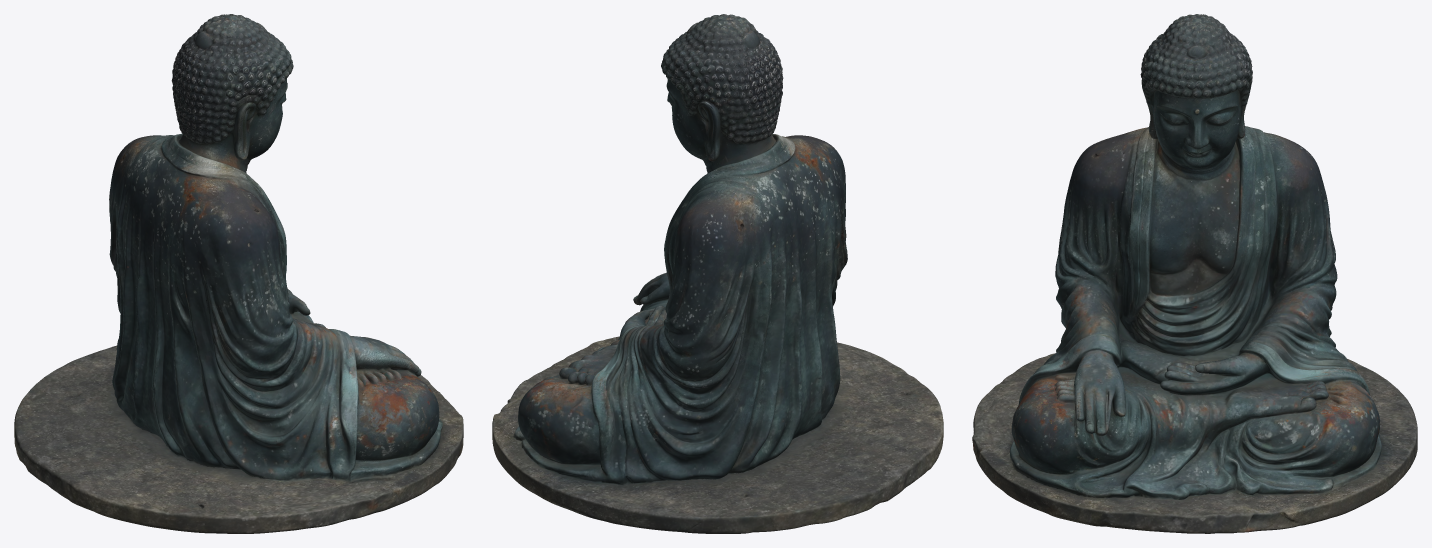
The picture shows the model from 3 angles, left to right: view 1: azimuth 30°, elevation 25°; view 2: azimuth 150°, elevation 25°; view 3: azimuth 270°, elevation 25°; orthographic projection.
Parts seen in each view (by area): view 1: tripo_node_27ca2743-23ee-4ca9-918f-ed6d830a3a26; view 2: tripo_node_27ca2743-23ee-4ca9-918f-ed6d830a3a26; view 3: tripo_node_27ca2743-23ee-4ca9-918f-ed6d830a3a26.
Boxes of the visible parts, box(x1,y1,x2,y2) form: tripo_node_27ca2743-23ee-4ca9-918f-ed6d830a3a26: box(14, 14, 463, 533); tripo_node_27ca2743-23ee-4ca9-918f-ed6d830a3a26: box(492, 14, 943, 533); tripo_node_27ca2743-23ee-4ca9-918f-ed6d830a3a26: box(972, 14, 1417, 533).
Size of the model in its own units: 0.9153 by 0.9812 by 0.936.
1 material, 1 textured.
